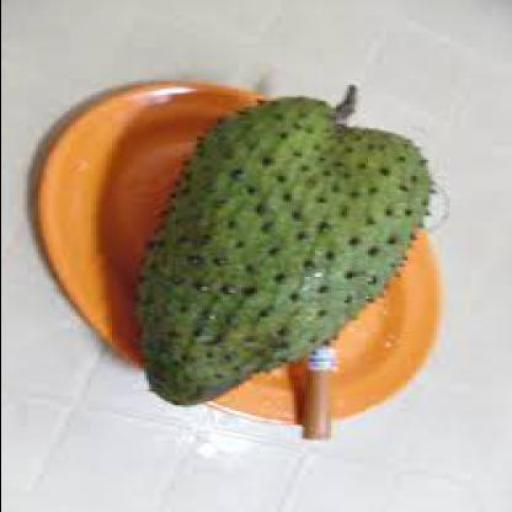biodegradable: (140, 93, 435, 405)
